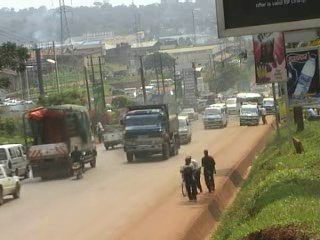Car: (180, 105, 200, 121), (224, 96, 239, 113)
Motorcycle: (68, 144, 91, 179)
